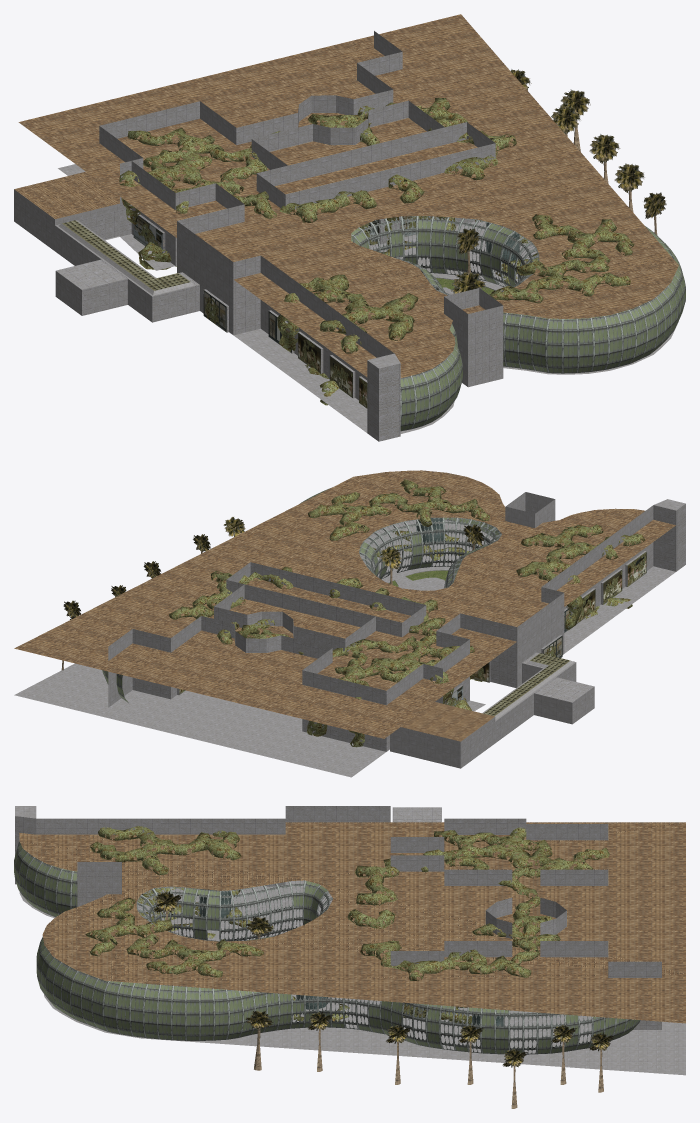
File: Mall_1.1.fbx
3 views of the same model, one above another, from view 1: azimuth 30°, elevation 25°; view 2: azimuth 150°, elevation 25°; view 3: azimuth 270°, elevation 25° (orthographic). The views are drawn at different scales.
Parts seen in each view (by area): view 1: Roof, Interior_A, Overgrowth, Facade, Inner Glass Facade, Patio Walls, Wall, Foliage_Palmtree, Shop_facades, Ceiling_Wood, Building Wall, Tunnel Ceiling; view 2: Roof, Interior_A, Patio Walls, Overgrowth, Inner Glass Facade, Shop_facades, Ceiling_Wood, Building Wall, Foliage_Palmtree, Tunnel Ceiling, Wall, Facade; view 3: Roof, Facade, Overgrowth, Interior_A, Patio Walls, Inner Glass Facade, Foliage_Palmtree, Wall, Ornate_Pillar, Building Wall.
Part boxes in pixels (bbox=[...]): Roof: bbox=[18, 14, 678, 378]; Interior_A: bbox=[14, 31, 495, 400]; Overgrowth: bbox=[119, 98, 634, 405]; Facade: bbox=[400, 225, 685, 431]; Inner Glass Facade: bbox=[351, 213, 539, 295]; Patio Walls: bbox=[58, 164, 678, 433]; Wall: bbox=[444, 288, 503, 387]; Foliage_Palmtree: bbox=[451, 69, 666, 293]; Shop_facades: bbox=[133, 215, 439, 408]; Ceiling_Wood: bbox=[14, 171, 119, 219]; Building Wall: bbox=[367, 353, 400, 441]; Tunnel Ceiling: bbox=[55, 220, 197, 296]; Roof: bbox=[14, 470, 675, 738]; Interior_A: bbox=[108, 505, 653, 768]; Patio Walls: bbox=[14, 520, 675, 777]; Overgrowth: bbox=[169, 479, 644, 747]; Inner Glass Facade: bbox=[359, 517, 501, 588]; Shop_facades: bbox=[179, 551, 646, 706]; Ceiling_Wood: bbox=[401, 702, 494, 741]; Building Wall: bbox=[653, 499, 685, 571]; Foliage_Palmtree: bbox=[61, 517, 483, 670]; Tunnel Ceiling: bbox=[482, 653, 575, 721]; Wall: bbox=[505, 492, 555, 528]; Facade: bbox=[102, 488, 500, 702]; Roof: bbox=[19, 822, 685, 1023]; Facade: bbox=[14, 842, 640, 1054]; Overgrowth: bbox=[85, 826, 609, 1024]; Interior_A: bbox=[36, 806, 661, 1029]; Patio Walls: bbox=[19, 880, 685, 1075]; Inner Glass Facade: bbox=[136, 878, 332, 941]; Foliage_Palmtree: bbox=[153, 890, 614, 1108]; Wall: bbox=[77, 862, 121, 906]; Ornate_Pillar: bbox=[199, 889, 503, 1039]; Building Wall: bbox=[15, 806, 36, 884].
Size of what is drawn, in the model's own units: 9857 by 1583 by 10731.
15 materials, 15 textured.
